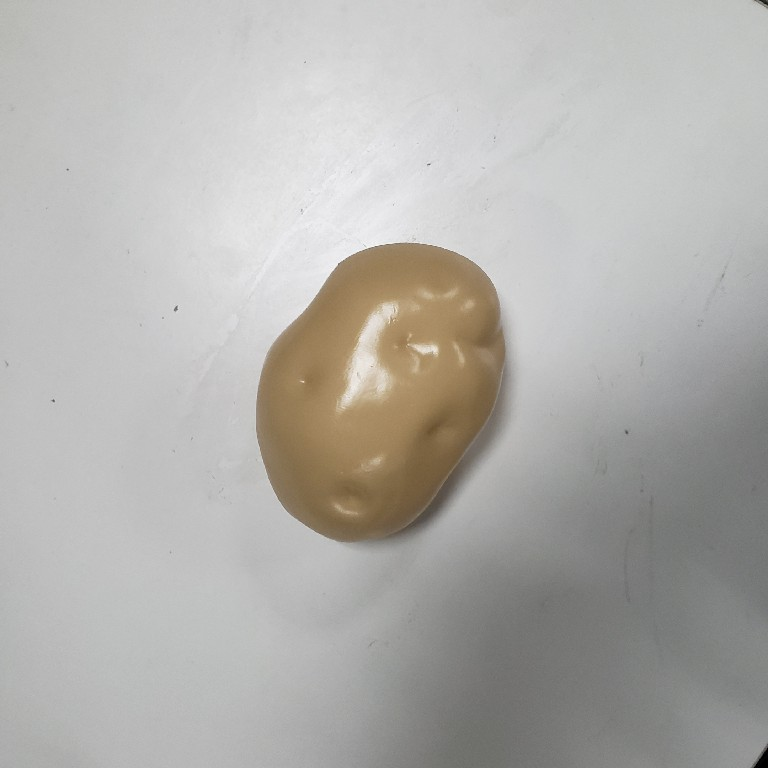fruit_potato: (248, 238, 514, 554)
